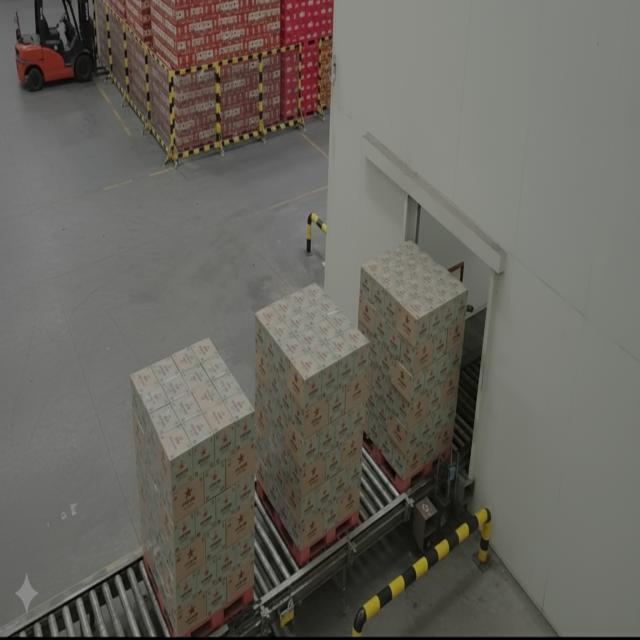pallet: (128, 332, 258, 640), (252, 280, 371, 568), (359, 239, 464, 501)
